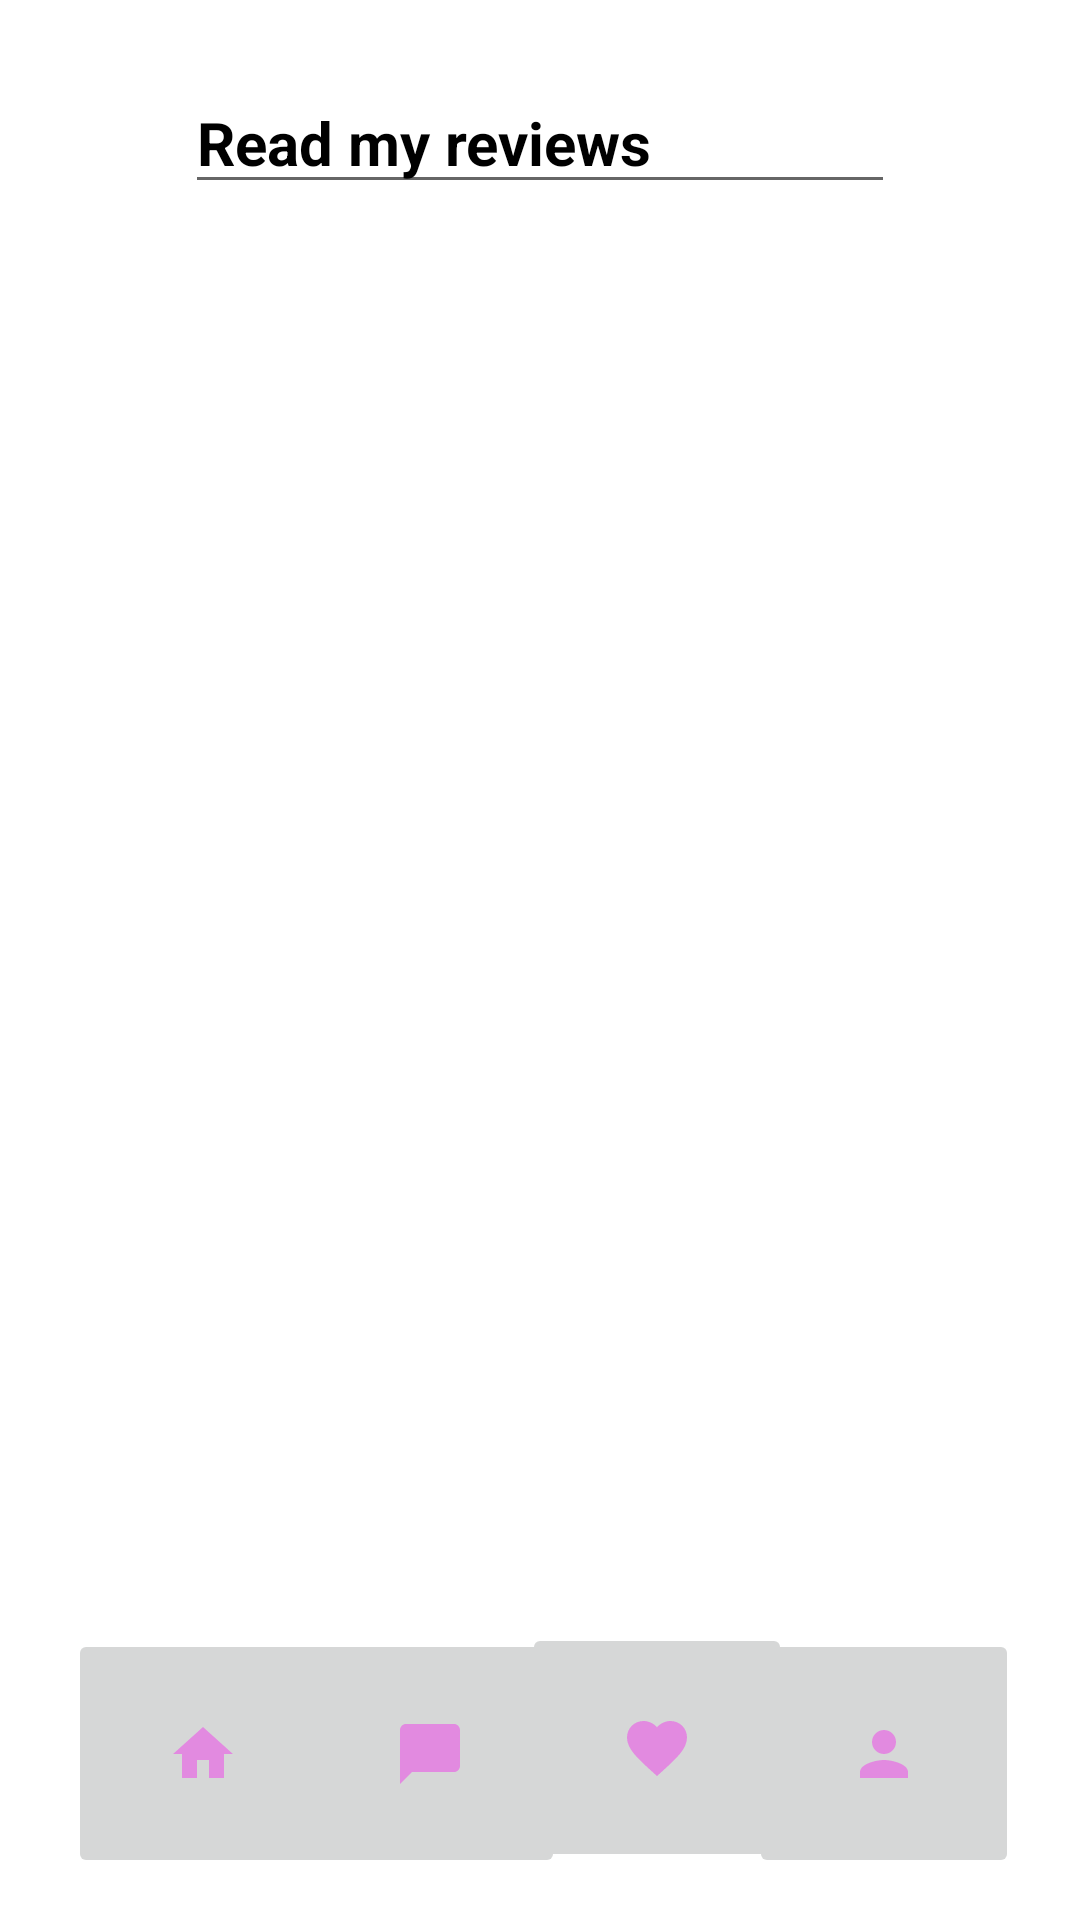

Point at icon controls on the screen. Image size 1080*1920, points as [x,y].
favourites: [657,1747]
home: [209,1753]
person: [878,1750]
